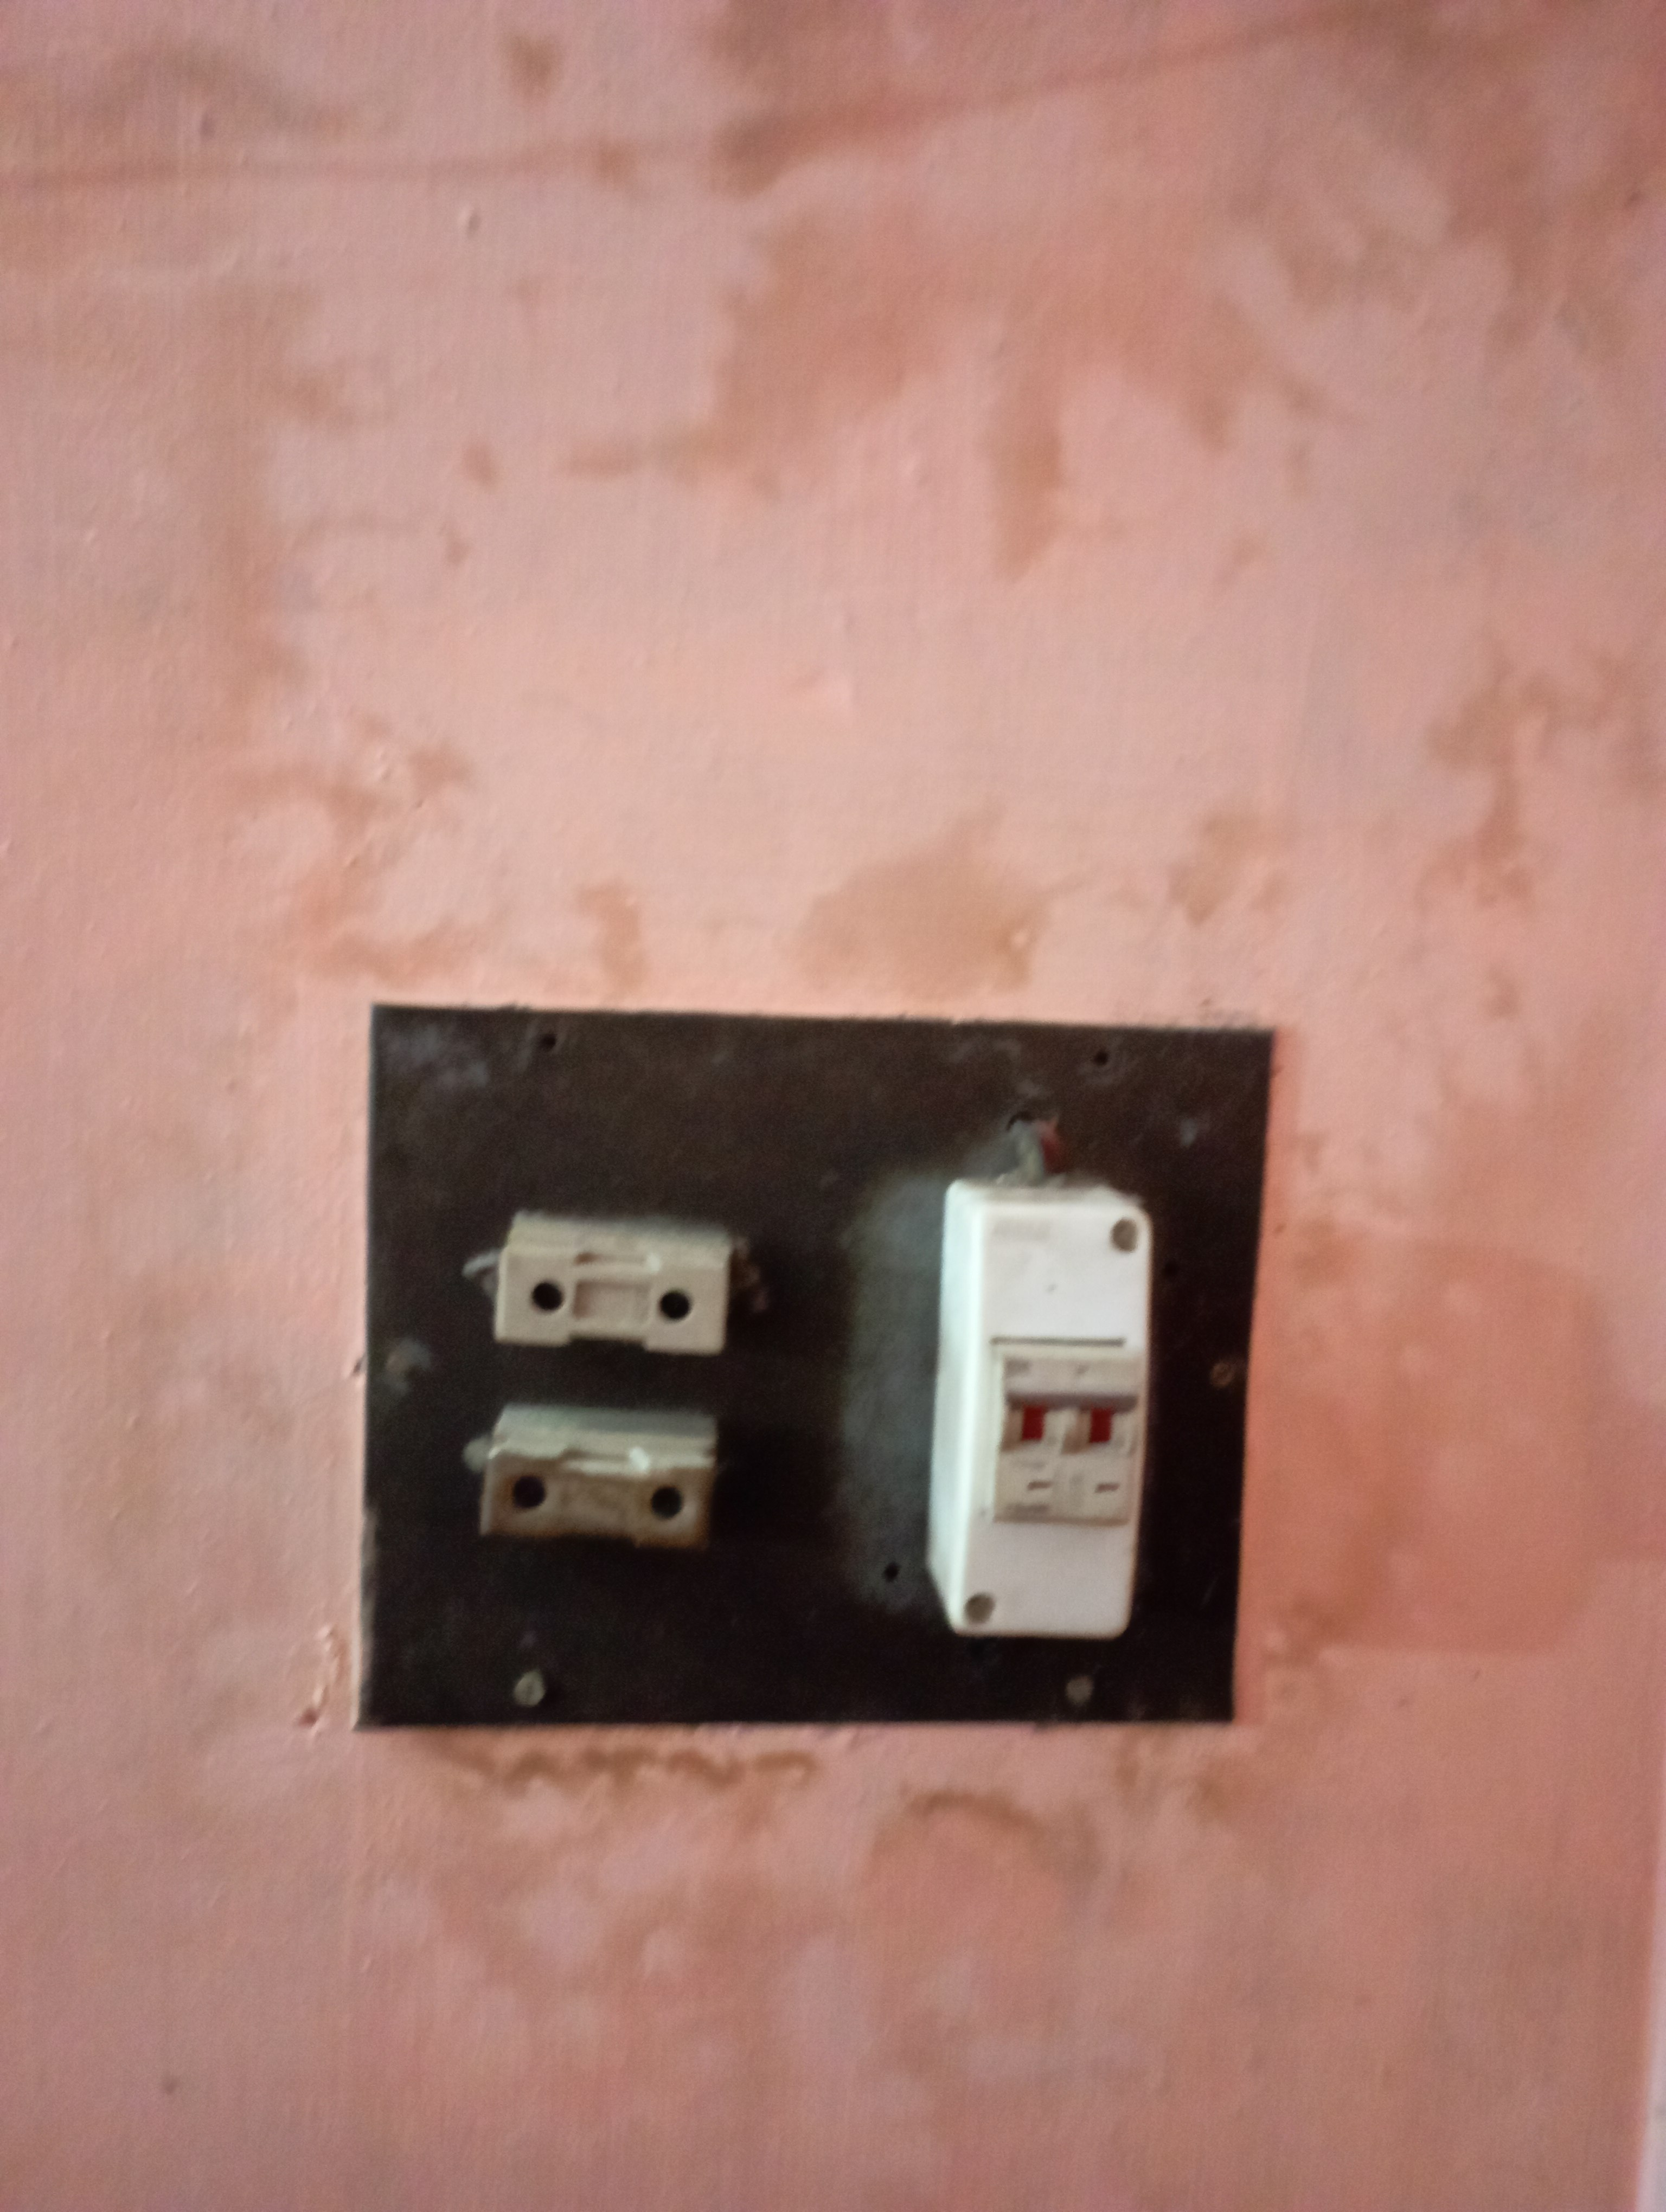ciruit_breaker: (908, 1163, 1155, 1658)
fuse: (453, 1189, 763, 1366), (450, 1423, 763, 1574)
